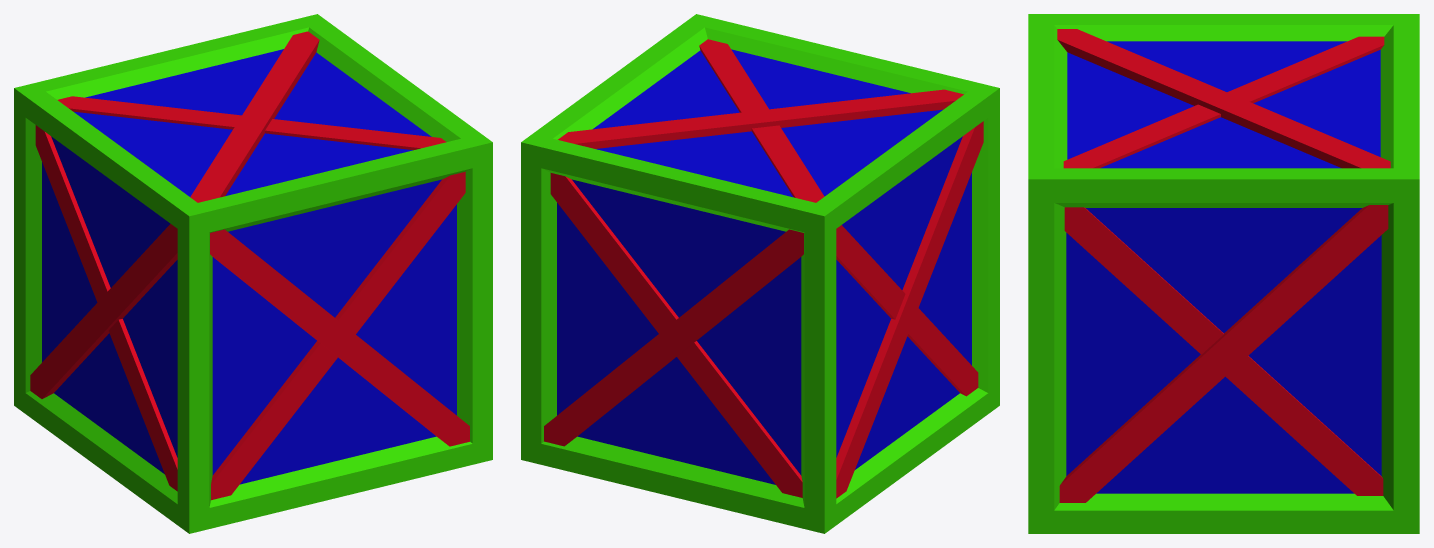
The picture shows the model from 3 angles, left to right: view 1: azimuth 30°, elevation 25°; view 2: azimuth 150°, elevation 25°; view 3: azimuth 270°, elevation 25°; orthographic projection. The views are drawn at different scales.
Parts seen in each view (by area): view 1: Box; view 2: Box; view 3: Box.
Part boxes in pixels (bbox=[...]): Box: bbox=[14, 14, 492, 533]; Box: bbox=[521, 14, 999, 533]; Box: bbox=[1028, 14, 1419, 533].
Size of the model in its own units: 200 by 200 by 200.
